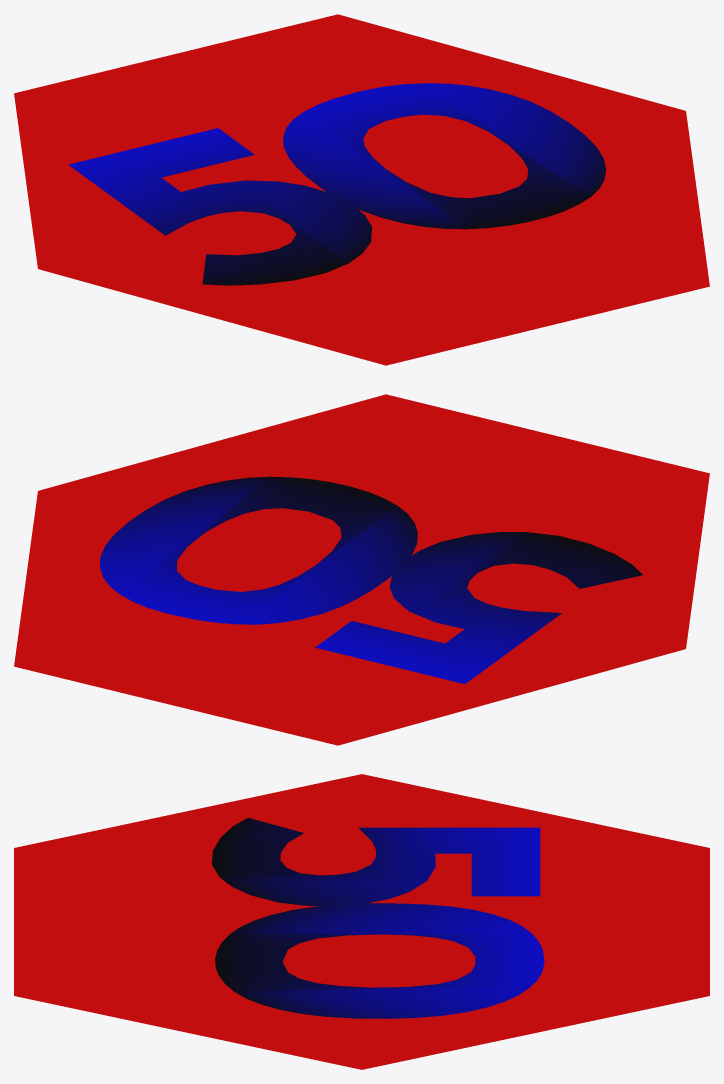
The model's file is SM_Number_50.fbx.
3 views of the same model, one above another, from view 1: azimuth 30°, elevation 25°; view 2: azimuth 150°, elevation 25°; view 3: azimuth 270°, elevation 25° (orthographic). The views are drawn at different scales.
Parts seen in each view (by area): view 1: FBX_OUT; view 2: FBX_OUT; view 3: FBX_OUT.
Part boxes in pixels (box(x1,y1,x2,y2)): FBX_OUT: box(14, 14, 709, 365); FBX_OUT: box(14, 394, 709, 745); FBX_OUT: box(14, 774, 709, 1069).
Size of the model in its own units: 50 by 0.2917 by 49.71.
